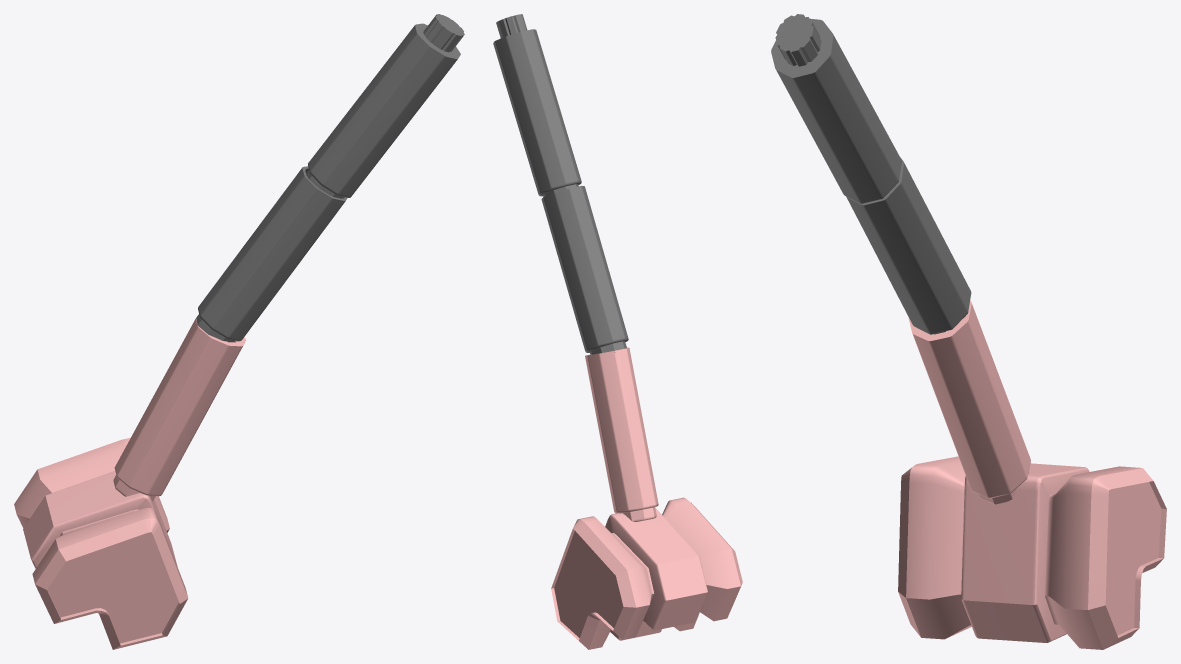
File: BrazoIzq.obj
3 renders of one model, left to right at view 1: azimuth 30°, elevation 25°; view 2: azimuth 150°, elevation 25°; view 3: azimuth 270°, elevation 25°, orthographic. The views are drawn at different scales.
Parts seen in each view (by area): view 1: blinkobot_group2_blinkobot_group2_pCylinder1_blinkobot_tangan1_b, blinkobot_group2_blinkobot_group2_pCylinder1_blinkobot_polySurfa; view 2: blinkobot_group2_blinkobot_group2_pCylinder1_blinkobot_tangan1_b, blinkobot_group2_blinkobot_group2_pCylinder1_blinkobot_polySurfa; view 3: blinkobot_group2_blinkobot_group2_pCylinder1_blinkobot_polySurfa, blinkobot_group2_blinkobot_group2_pCylinder1_blinkobot_tangan1_b.
Boxes of the visible parts, bbox=[...] form: blinkobot_group2_blinkobot_group2_pCylinder1_blinkobot_tangan1_b: bbox=[113, 14, 464, 501]; blinkobot_group2_blinkobot_group2_pCylinder1_blinkobot_polySurfa: bbox=[14, 438, 188, 649]; blinkobot_group2_blinkobot_group2_pCylinder1_blinkobot_tangan1_b: bbox=[493, 14, 658, 521]; blinkobot_group2_blinkobot_group2_pCylinder1_blinkobot_polySurfa: bbox=[551, 497, 742, 649]; blinkobot_group2_blinkobot_group2_pCylinder1_blinkobot_polySurfa: bbox=[898, 456, 1166, 649]; blinkobot_group2_blinkobot_group2_pCylinder1_blinkobot_tangan1_b: bbox=[771, 14, 1030, 504].
Size of the model in its own units: 0.1888 by 0.3095 by 0.1434.
Materials: 3 (2 with a texture image).
